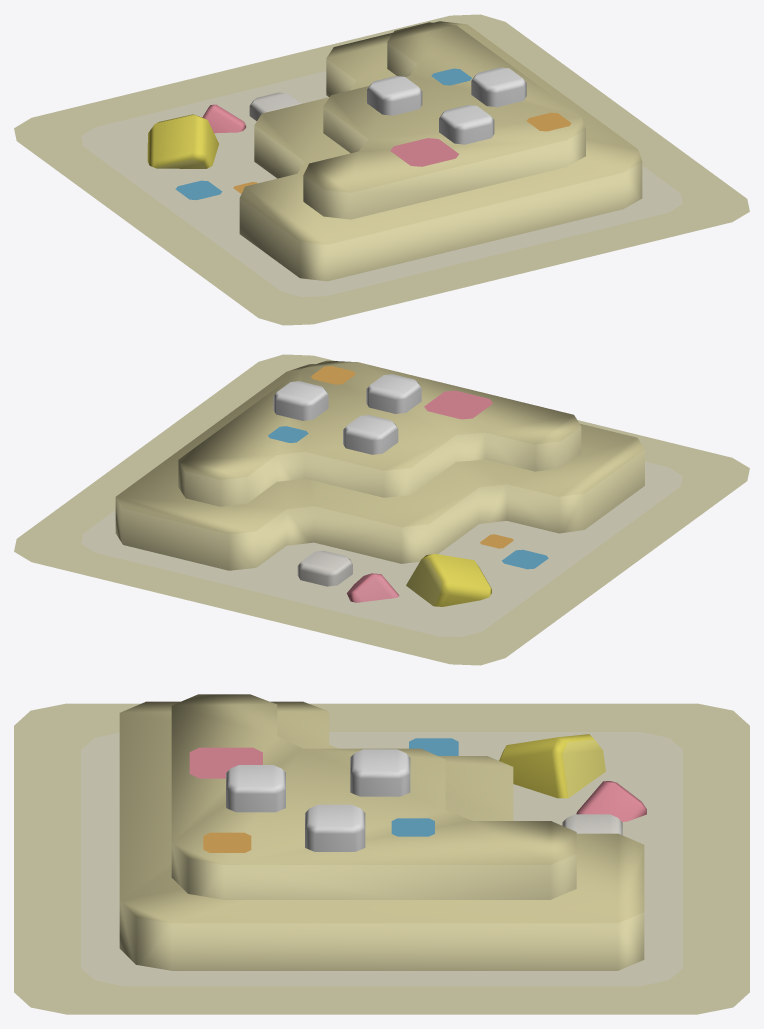
The model's file is BC_cookrecipe_06.fbx.
3 views of the same model, one above another, from view 1: azimuth 30°, elevation 25°; view 2: azimuth 150°, elevation 25°; view 3: azimuth 270°, elevation 25° (orthographic). The views are drawn at different scales.
Visible parts, largest first — view 1: base, dan, dandan, cube7, cream; view 2: base, dan, dandan, cube7, cream; view 3: base, dan, dandan, cube7, cream.
Boxes of the visible parts, x1=… form: base: x1=14, y1=14, x2=749, y2=325; dan: x1=239, y1=21, x2=642, y2=281; dandan: x1=303, y1=22, x2=585, y2=219; cube7: x1=147, y1=92, x2=300, y2=200; cream: x1=367, y1=67, x2=526, y2=144; base: x1=14, y1=354, x2=749, y2=665; dan: x1=115, y1=364, x2=644, y2=570; dandan: x1=178, y1=360, x2=581, y2=506; cube7: x1=297, y1=534, x2=548, y2=606; cream: x1=273, y1=374, x2=421, y2=454; base: x1=14, y1=703, x2=749, y2=1014; dan: x1=119, y1=701, x2=644, y2=970; dandan: x1=171, y1=694, x2=576, y2=899; cube7: x1=409, y1=734, x2=646, y2=835; cream: x1=226, y1=749, x2=410, y2=851.
Bounding box in the file's own units: 3.5 × 0.8521 × 3.5.
